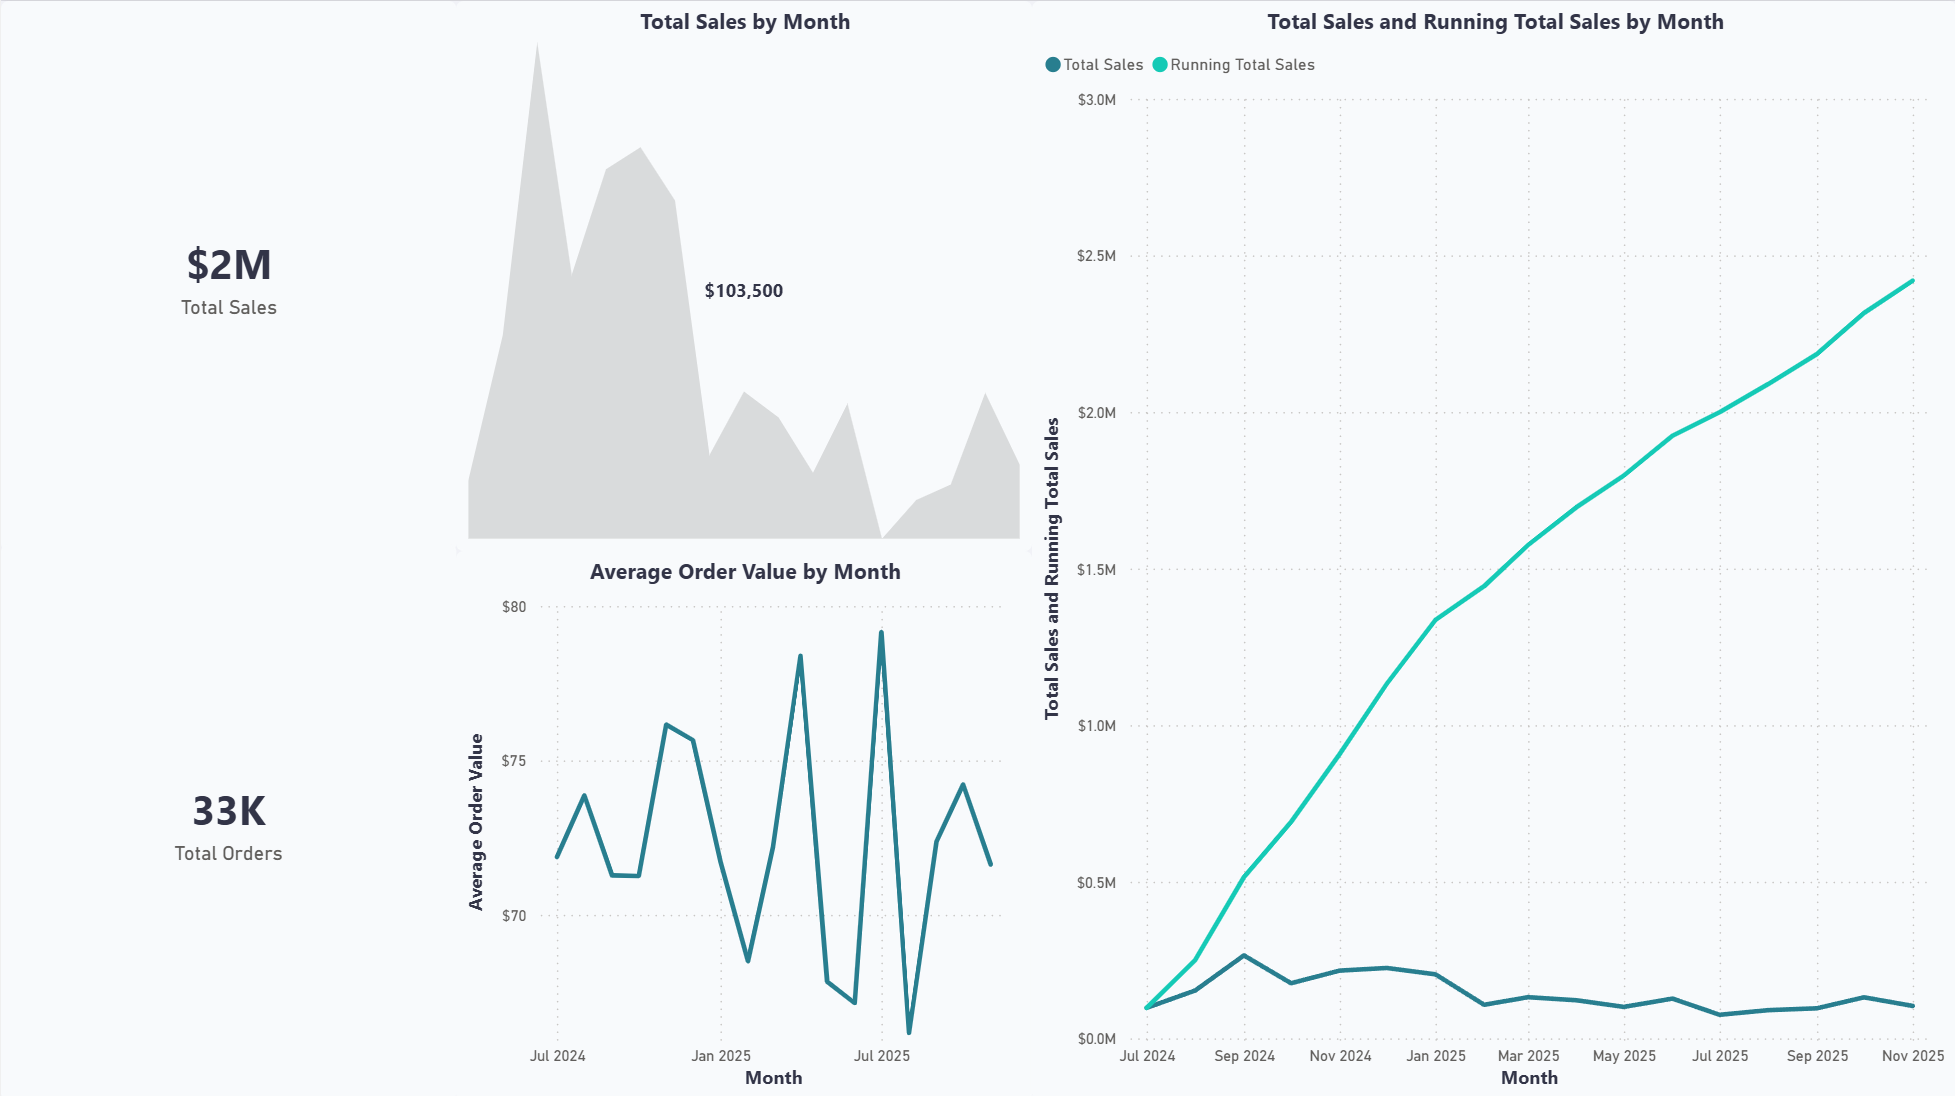

Layout of this report page (visuals, bound fields, positions):
{"tool":"powerbi","page":{"name":"Executive Overview","canvas":[1280,720],"ordinal":0},"visuals":[{"type":"card","fields":{"Values":["Key Measures.Total Sales"]},"box":[0,0,298.4,359.9],"z":0},{"type":"card","fields":{"Values":["Key Measures.Total Orders"]},"box":[0,355.3,297.8,364.5],"z":1000},{"type":"lineChart","fields":{"Category":["performance.Month"],"Y":["Key Measures.Total Sales","Key Measures.Running Total Sales"]},"box":[674.7,0,605.3,719.8],"z":4000},{"type":"kpi","fields":{"TrendLine":["performance.Month"],"Indicator":["Key Measures.Total Sales"]},"box":[297.8,0,376.9,359.9],"z":4001},{"type":"lineChart","fields":{"Category":["performance.Month"],"Y":["Key Measures.Average Order Value"]},"box":[297.8,359.9,376.9,359.9],"z":4002}]}

Visuals, with their boxes in screenshot pixels (x1, y1, x2, y2), scaled from the page's 1280x720 canvas onto the 1955x1096 screenshot:
card - Key Measures.Total Sales: rect(0, 0, 456, 548)
card - Key Measures.Total Orders: rect(0, 541, 455, 1095)
lineChart - performance.Month x Key Measures.Total Sales: rect(1030, 0, 1954, 1095)
kpi - performance.Month x Key Measures.Total Sales: rect(455, 0, 1030, 548)
lineChart - performance.Month x Key Measures.Average Order Value: rect(455, 548, 1030, 1095)
